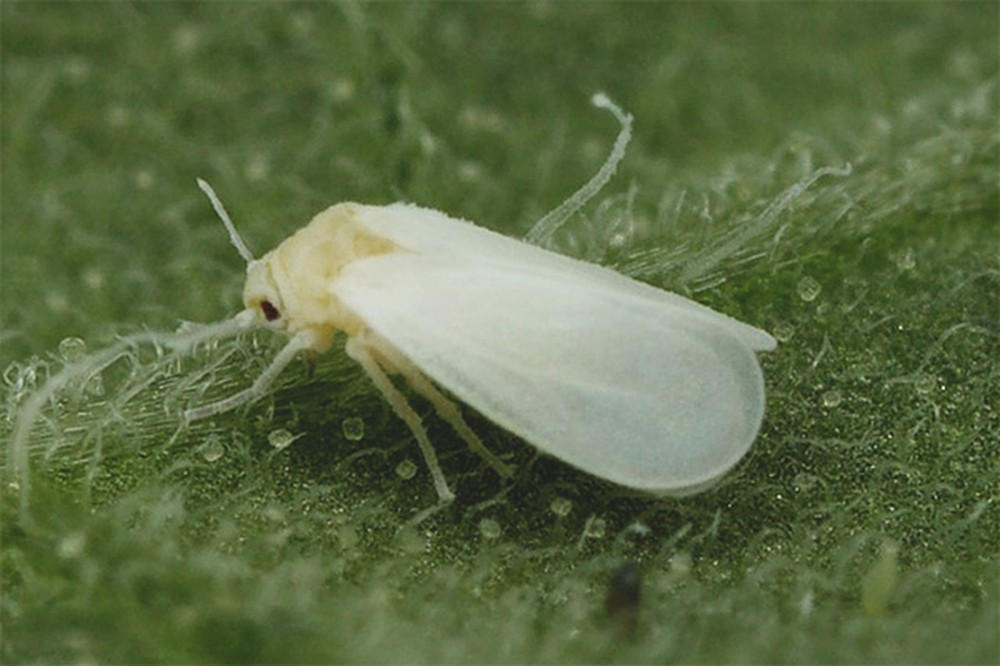Mosca Blanca: (155, 155, 781, 550)
